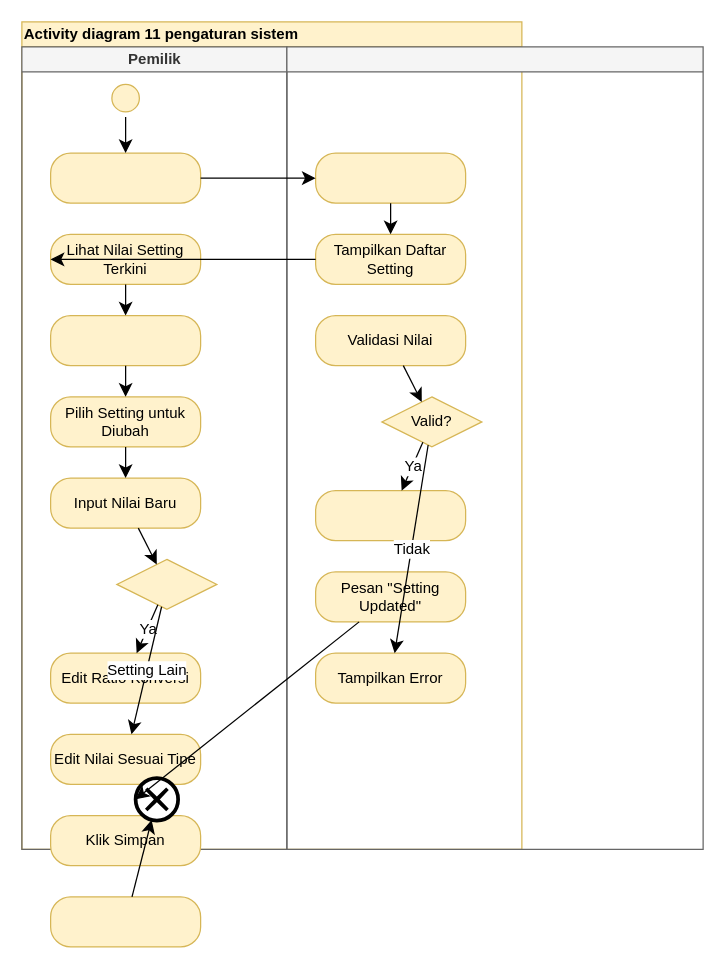
This 725x969 diagram has some shape labels left out. Each missing label, with the box of its shape:
Buka Pengaturan Sistem: (49, 152, 201, 203)
Edit Ulang: (49, 896, 201, 947)
Konversi Butir/KG?: (116, 558, 217, 609)
Lihat Keterangan Setting: (49, 314, 201, 366)
Query Semua Setting: (314, 152, 466, 203)
Sistem: (286, 46, 703, 849)
Update Setting di Database: (314, 489, 466, 541)
